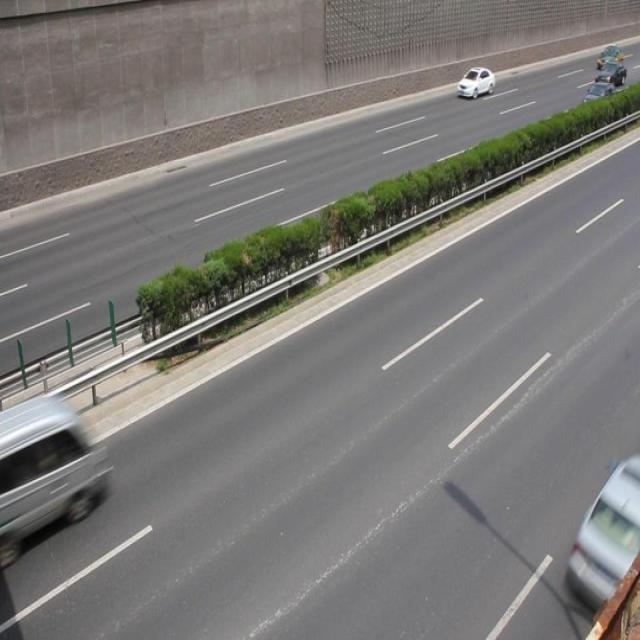car: (455, 66, 493, 100)
